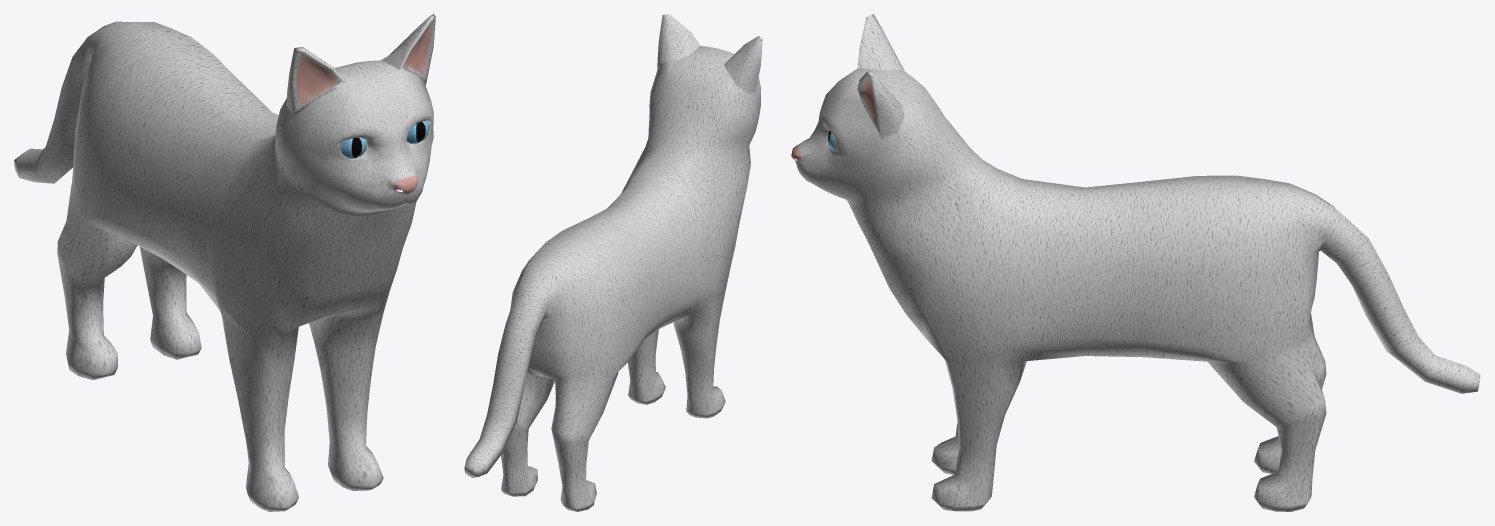
The model's file is cat.glb.
3 renders of one model, left to right at view 1: azimuth 30°, elevation 25°; view 2: azimuth 150°, elevation 25°; view 3: azimuth 270°, elevation 25°, orthographic. The views are drawn at different scales.
Visible parts, largest first — view 1: body cat_geo, cat_geo eyes; view 2: body cat_geo; view 3: body cat_geo.
Part boxes in pixels (x1=…): body cat_geo: x1=14, y1=14, x2=435, y2=511; cat_geo eyes: x1=338, y1=120, x2=429, y2=158; body cat_geo: x1=464, y1=14, x2=762, y2=511; body cat_geo: x1=791, y1=14, x2=1480, y2=511.
Size of the model in its own units: 15.72 by 50.53 by 71.3.
2 materials, 2 textured.
